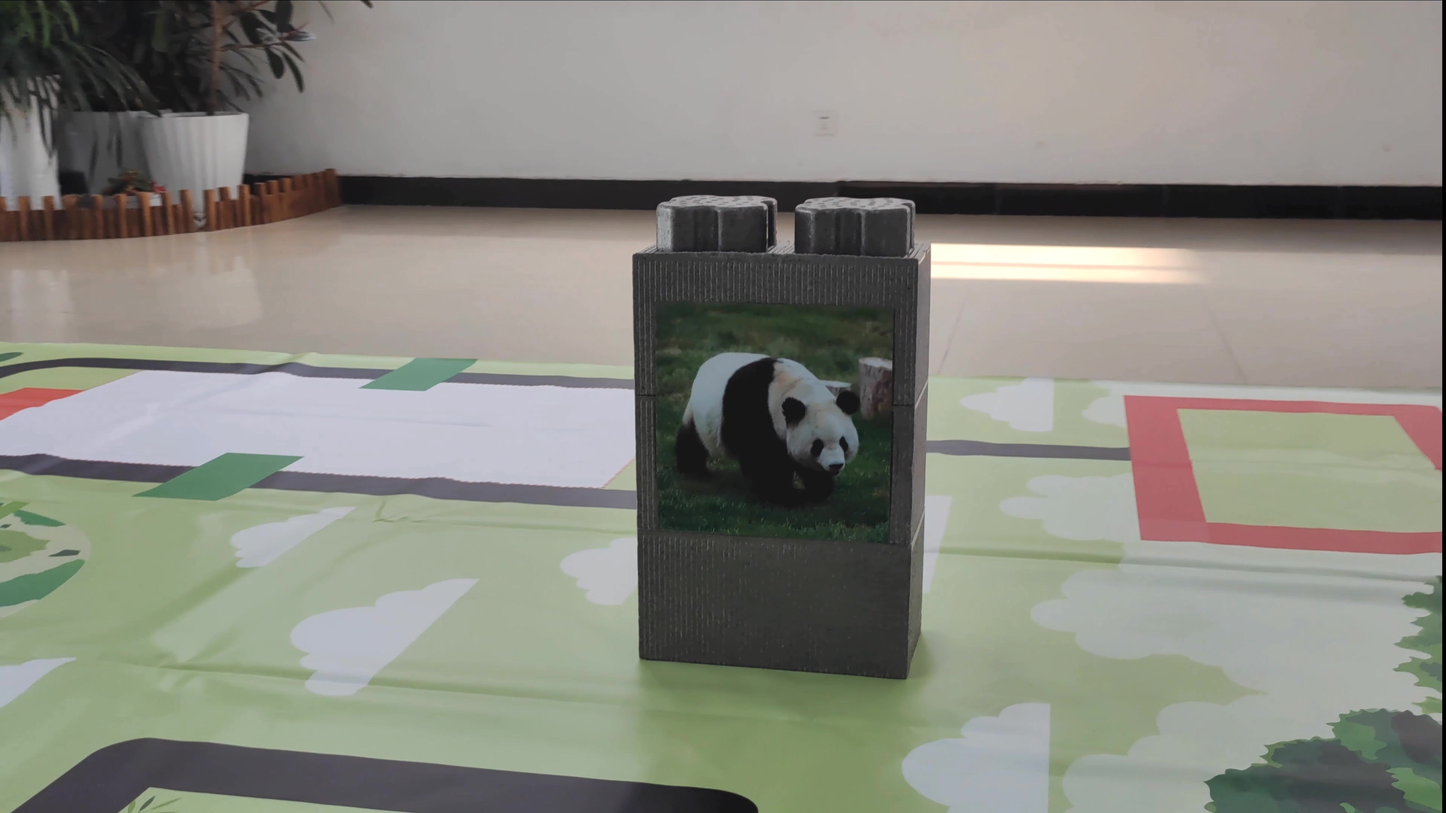panda: (663, 330, 891, 539)
